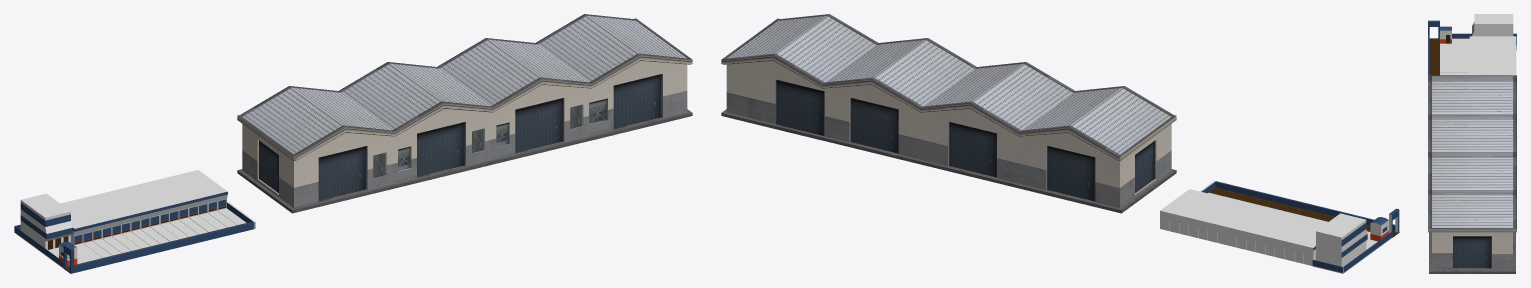
The picture shows the model from 3 angles, left to right: view 1: azimuth 30°, elevation 25°; view 2: azimuth 150°, elevation 25°; view 3: azimuth 270°, elevation 25°; orthographic projection. The views are drawn at different scales.
Visible parts, largest first — view 1: wh-l9; view 2: wh-l9; view 3: wh-l9.
Boxes of the visible parts, left/top/right/bottom form: wh-l9: left=14, top=14, right=692, bottom=273; wh-l9: left=721, top=14, right=1399, bottom=273; wh-l9: left=1428, top=14, right=1516, bottom=273.
Bounding box in the file's own units: 54 × 6.61 × 8.48.
5 materials, 1 textured.
